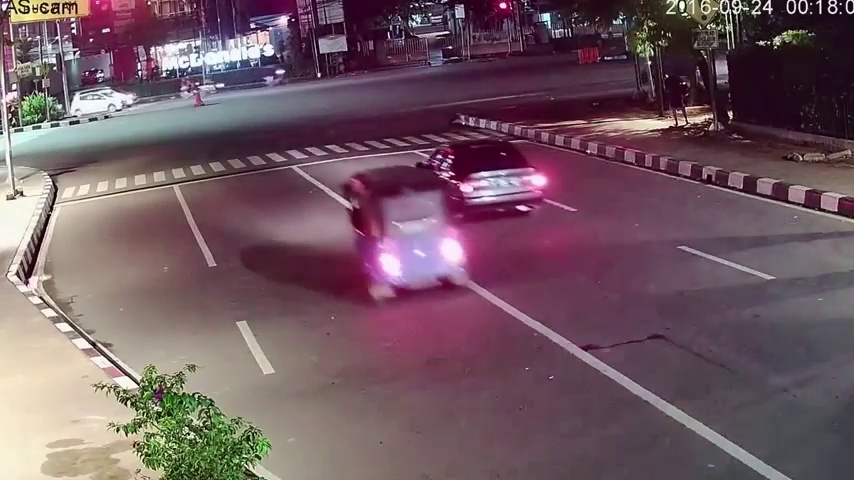car: (343, 166, 470, 299), (421, 138, 544, 217)
